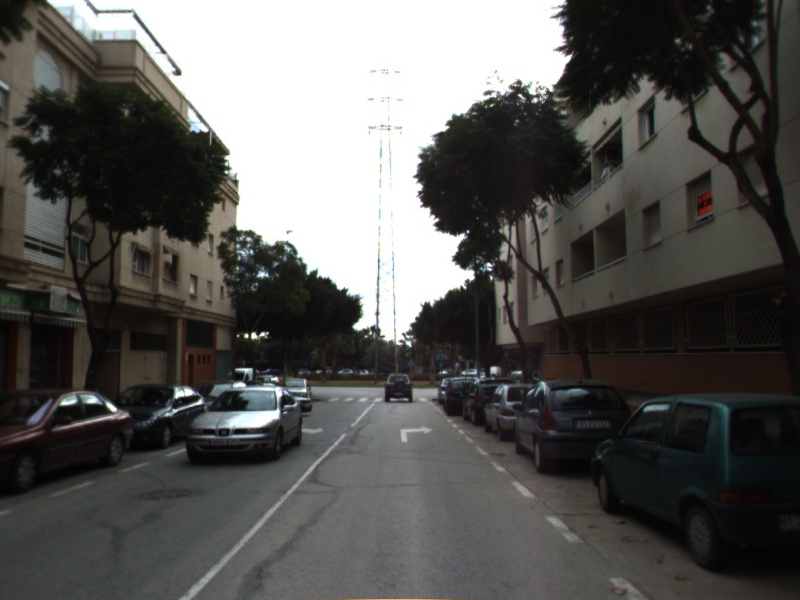RIGHT: (398, 423, 436, 444)
